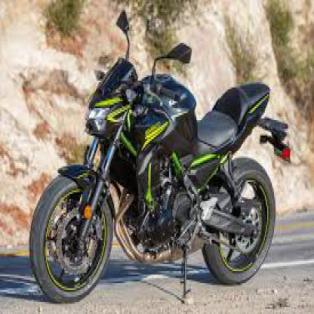Motocicleta: (28, 6, 299, 307)
